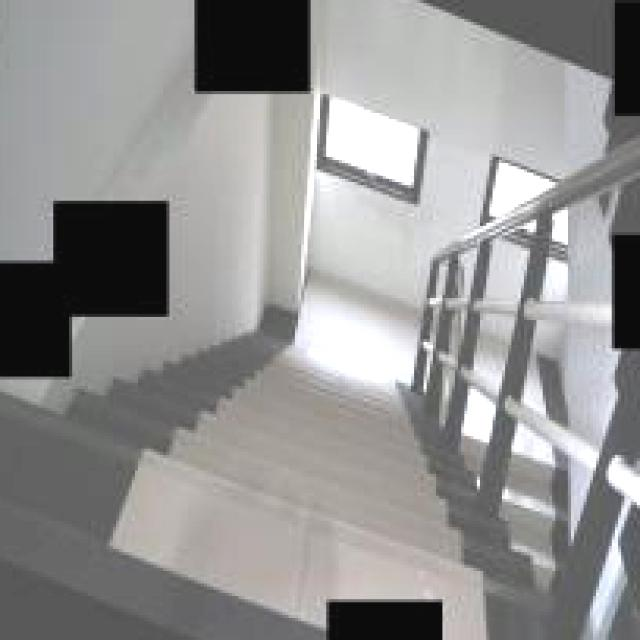downstair: (249, 306, 421, 579)
